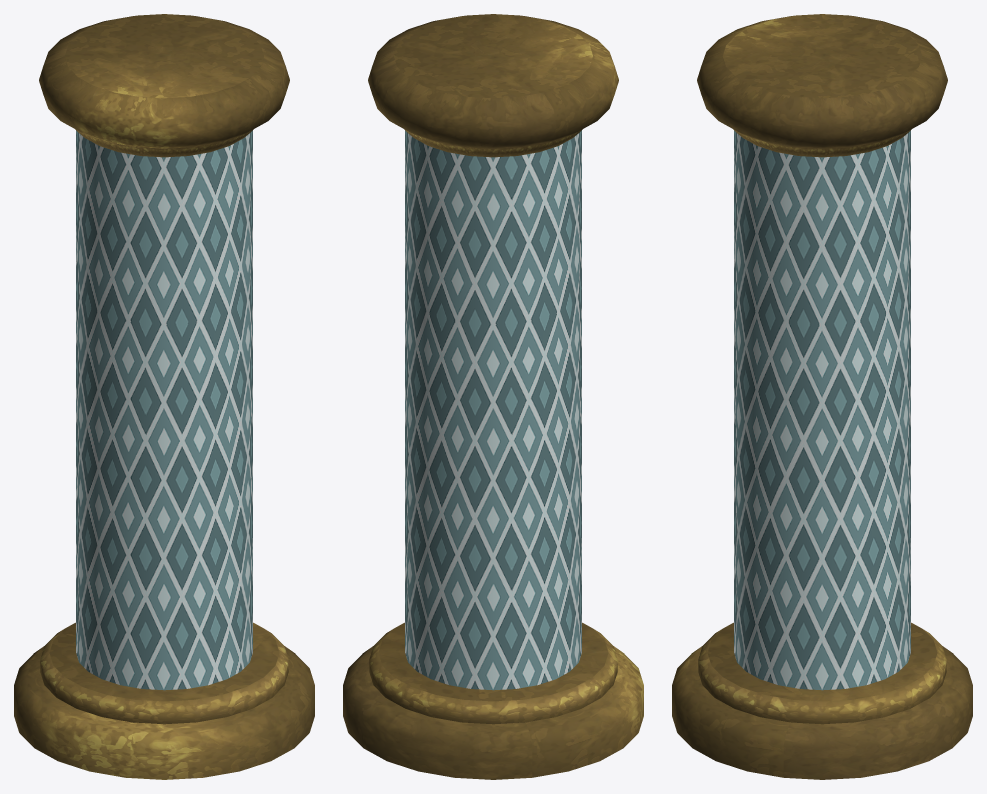
File: DI_010_pillar.glb
3 views of the same model, side by side, from view 1: azimuth 30°, elevation 25°; view 2: azimuth 150°, elevation 25°; view 3: azimuth 270°, elevation 25° (orthographic).
Visible parts, largest first — view 1: Pillar, Stands; view 2: Pillar, Stands; view 3: Pillar, Stands.
Boxes of the visible parts, bbox=[...] form: Pillar: bbox=[76, 130, 252, 690]; Stands: bbox=[14, 14, 314, 779]; Pillar: bbox=[405, 130, 581, 690]; Stands: bbox=[343, 14, 643, 779]; Pillar: bbox=[734, 130, 910, 690]; Stands: bbox=[672, 14, 972, 779].
Size of the model in its own units: 0.7735 by 1.87 by 0.7735.
2 materials, 2 textured.
